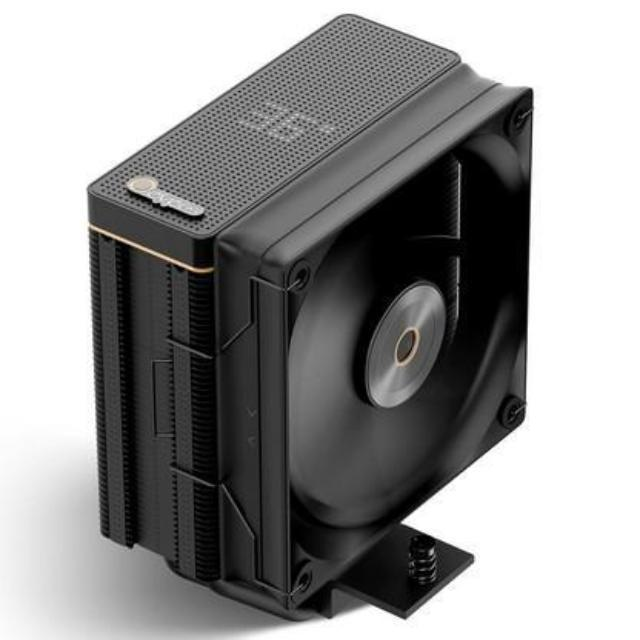CPU_Fan: (89, 16, 531, 624)
